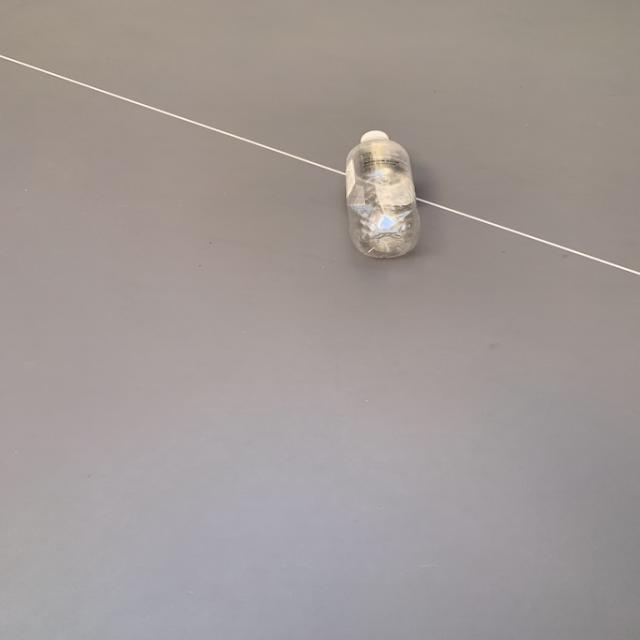Waste: (348, 130, 421, 258)
